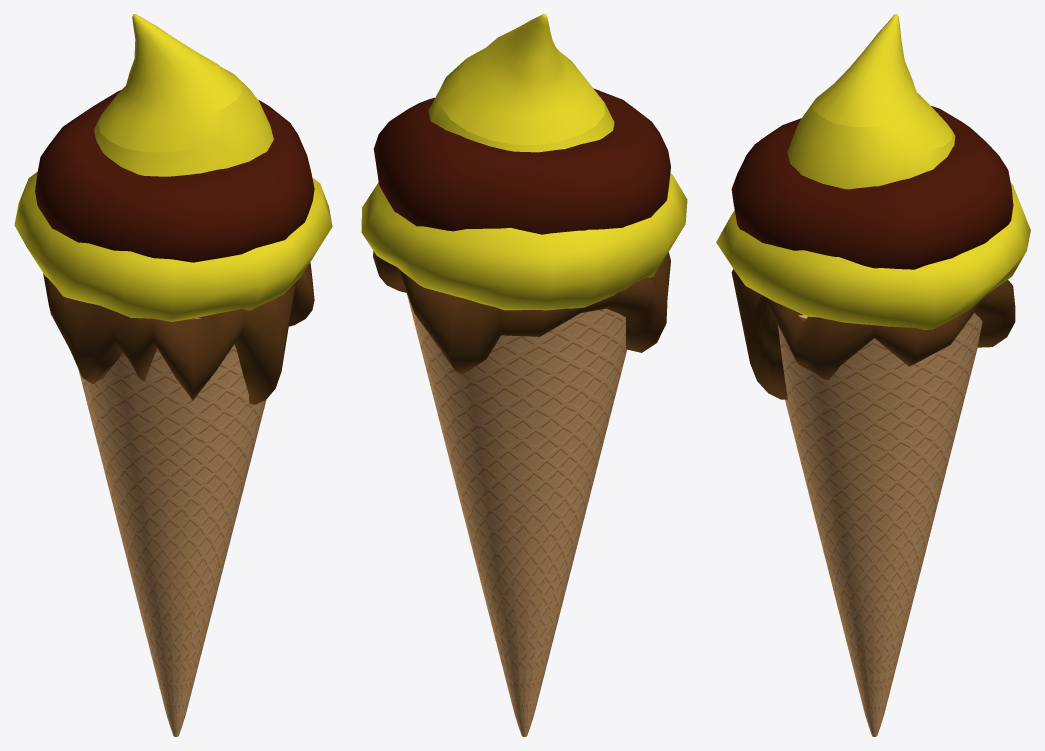
Rendered from ice.fbx.
The picture shows the model from 3 angles, left to right: view 1: azimuth 30°, elevation 25°; view 2: azimuth 150°, elevation 25°; view 3: azimuth 270°, elevation 25°; orthographic projection. The views are drawn at different scales.
Parts seen in each view (by area): view 1: pCylinder19, pSphere1, pTorus1, pTorus2; view 2: pCylinder19, pSphere1, pTorus1, pTorus2; view 3: pCylinder19, pSphere1, pTorus1, pTorus2.
Boxes of the visible parts, bbox=[...] form: pCylinder19: bbox=[78, 318, 266, 736]; pSphere1: bbox=[14, 14, 332, 321]; pTorus1: bbox=[35, 90, 314, 262]; pTorus2: bbox=[43, 262, 314, 404]; pCylinder19: bbox=[406, 293, 626, 736]; pSphere1: bbox=[361, 14, 687, 310]; pTorus1: bbox=[373, 88, 670, 234]; pTorus2: bbox=[373, 251, 670, 374]; pCylinder19: bbox=[778, 312, 982, 736]; pSphere1: bbox=[716, 14, 1030, 329]; pTorus1: bbox=[731, 106, 1013, 269]; pTorus2: bbox=[731, 269, 1015, 399].
Size of the model in its own units: 129 by 326 by 132.
